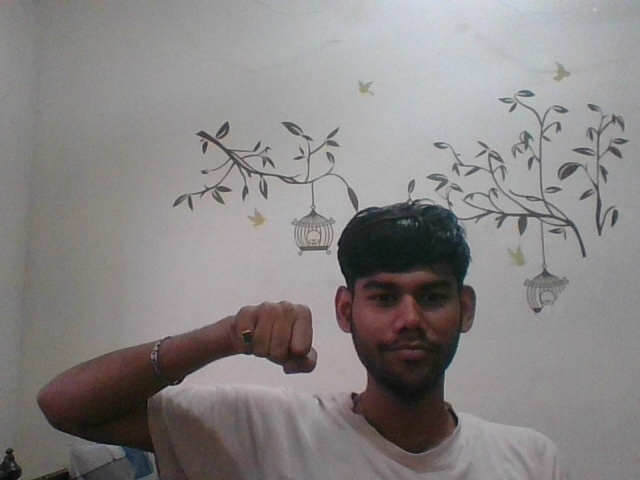Thank You: (221, 289, 333, 381)
